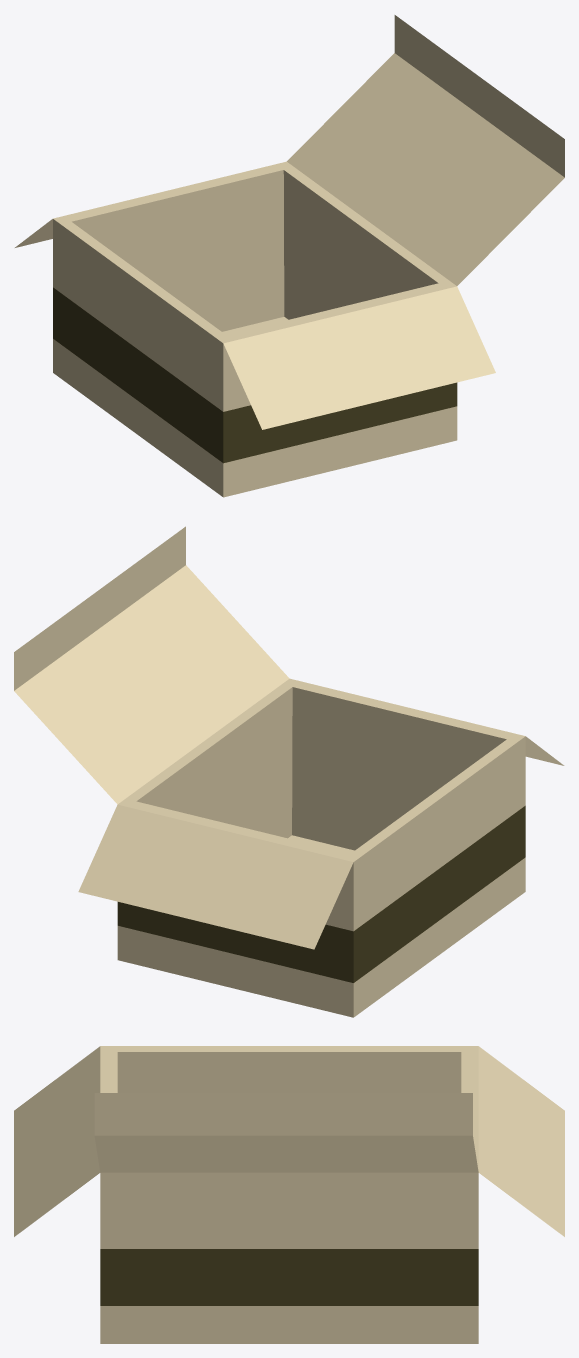
File: Caixa Montagem.fbx
The picture shows the model from 3 angles, top to bottom: view 1: azimuth 30°, elevation 25°; view 2: azimuth 150°, elevation 25°; view 3: azimuth 270°, elevation 25°; orthographic projection. The views are drawn at different scales.
Visible parts, largest first — view 1: Caixinha; view 2: Caixinha; view 3: Caixinha.
Part boxes in pixels (box(x1,y1,x2,y2)): Caixinha: box(15, 15, 564, 497); Caixinha: box(14, 526, 564, 1017); Caixinha: box(14, 1046, 564, 1343).
Size of the model in its own units: 748 by 585 by 949.
